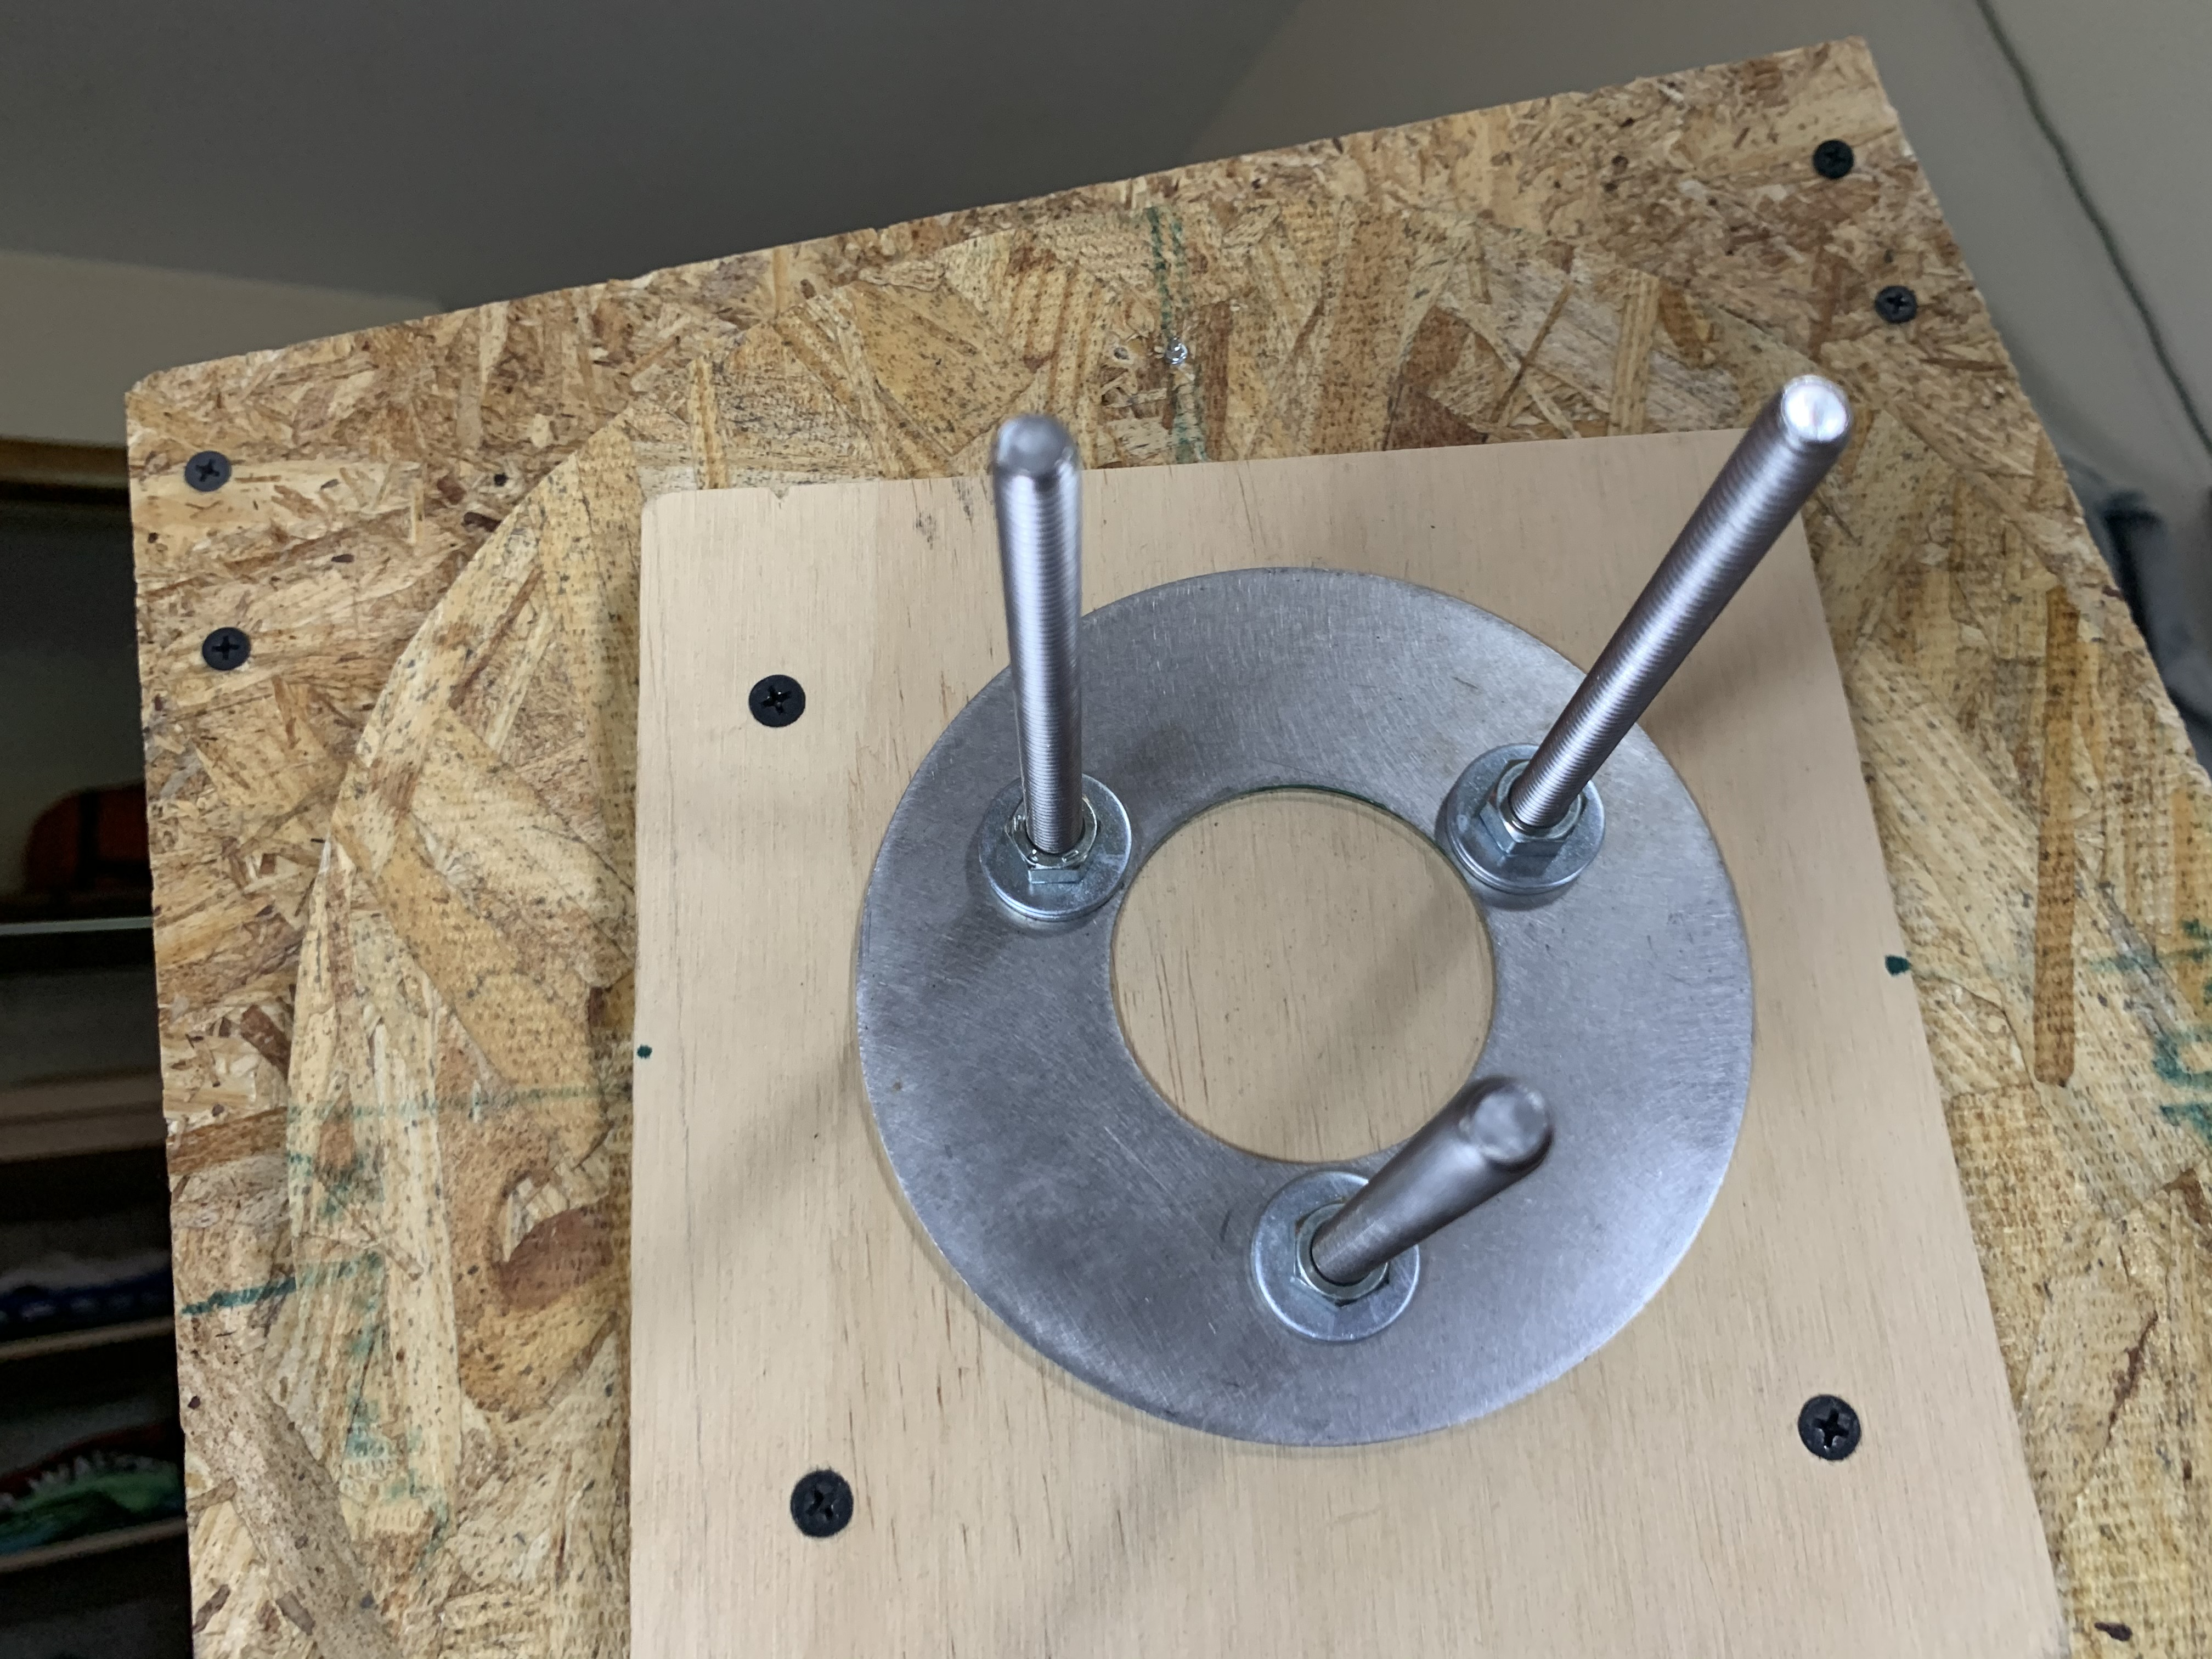bolt: (1251, 1168, 1426, 1347), (1440, 739, 1609, 897), (970, 767, 1132, 917)
